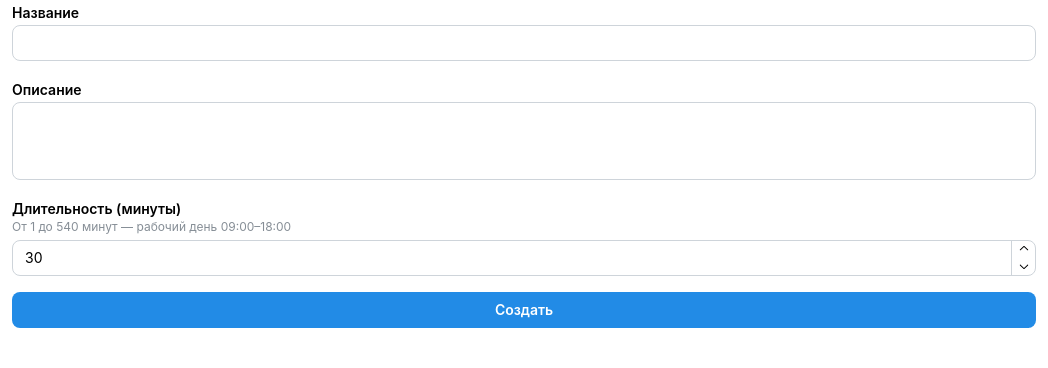
Scenario: CreateEventType › shows an error when the duration is longer than the working day
Type "Воркшоп" into the field labelled "Название" at point(524, 43), box [12,25,1036,61]
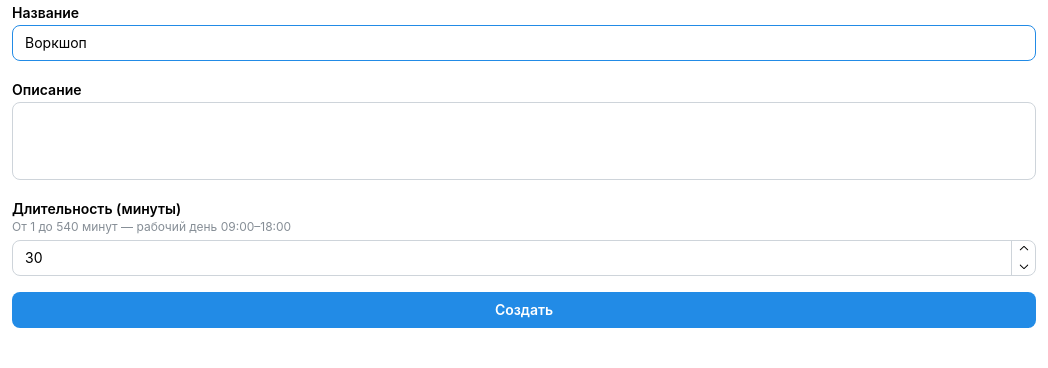
Replace the text in the field labelled "Длительность (минуты)" with "541" at point(524, 258), box [12,240,1036,276]
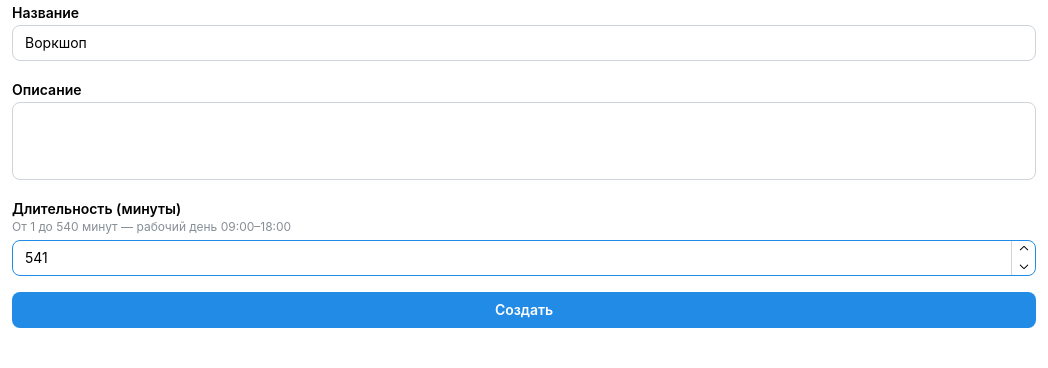
Click the button "Создать" at point(524, 310), box [12,292,1036,328]
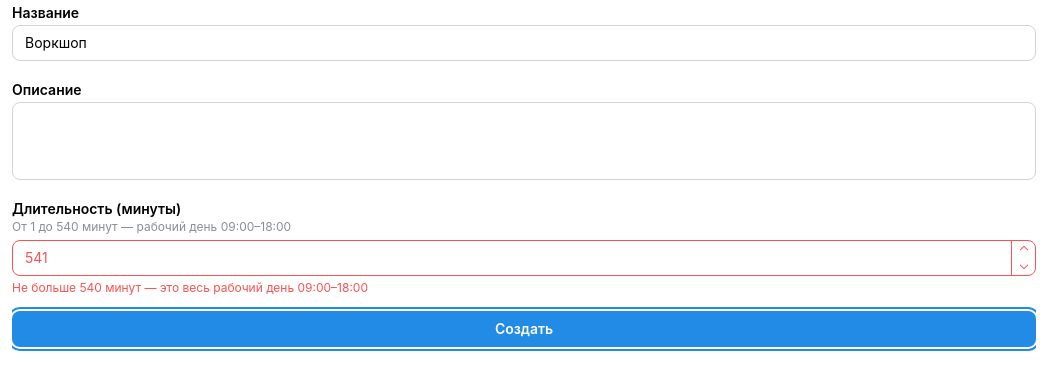
Expected: the text "Не больше 540 минут — это весь рабочий день 09:00–18:00" is shown, [12,280,368,295]
